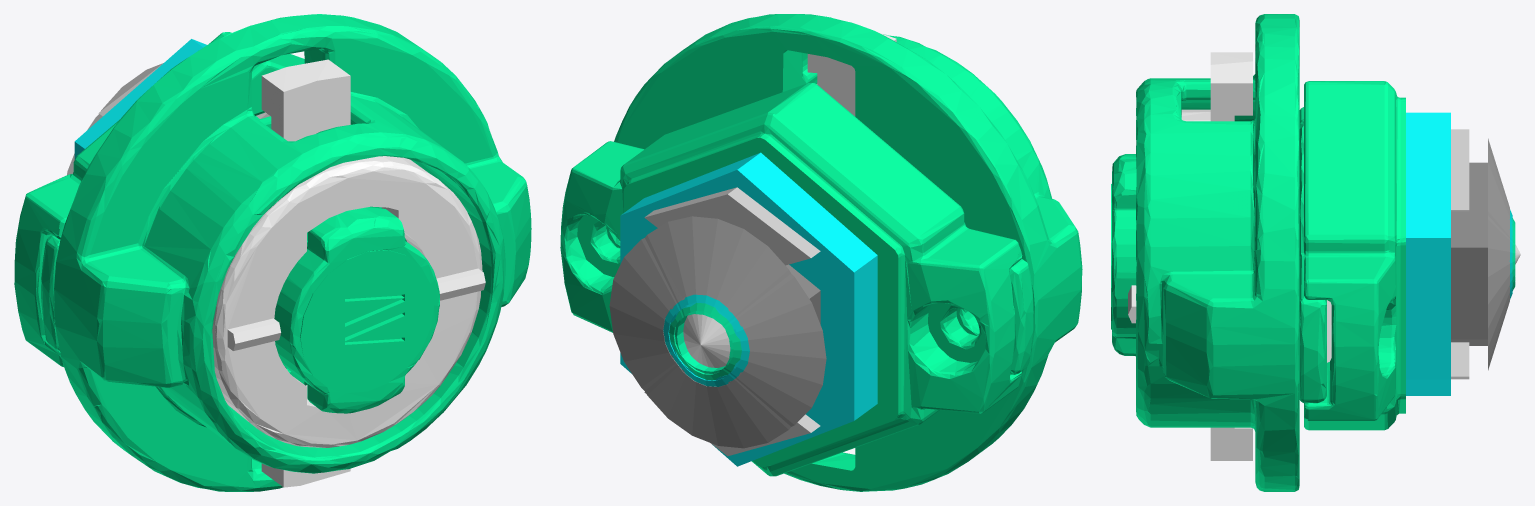
Rendered from SK Bit.glb.
3 views of the same model, side by side, from view 1: azimuth 30°, elevation 25°; view 2: azimuth 150°, elevation 25°; view 3: azimuth 270°, elevation 25° (orthographic). The views are drawn at different scales.
Visible parts, largest first — view 1: Bit; view 2: Bit; view 3: Bit.
Boxes of the visible parts, x1,y1,x2,y2 form: Bit: (14, 14, 531, 491); Bit: (560, 14, 1082, 491); Bit: (1111, 14, 1520, 491).
Bounding box in the file's own units: 0.2611 × 0.26 × 0.2229.
